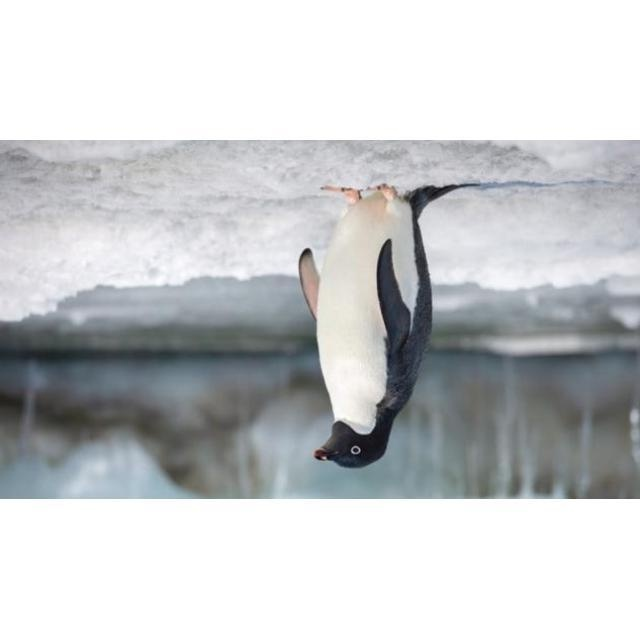penguin: (302, 184, 479, 469)
